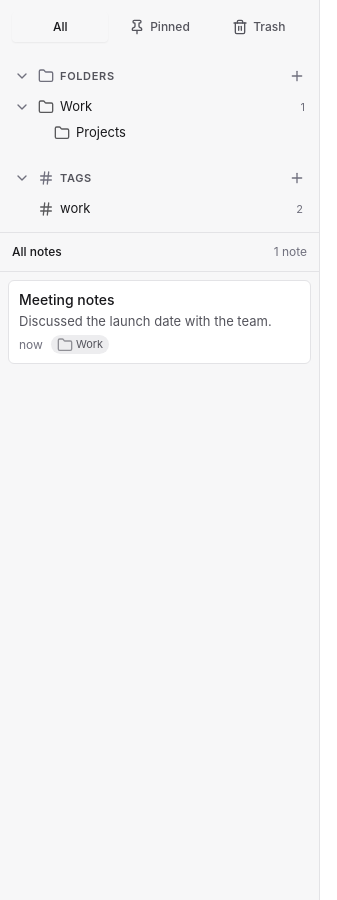
Test: Sidebar › offers an add control for tags that opens an inline input
Expected: the button named "New folder" is shown, [287,66,307,86]
Click the button named "New tag" at (297, 178), box [287,168,307,188]
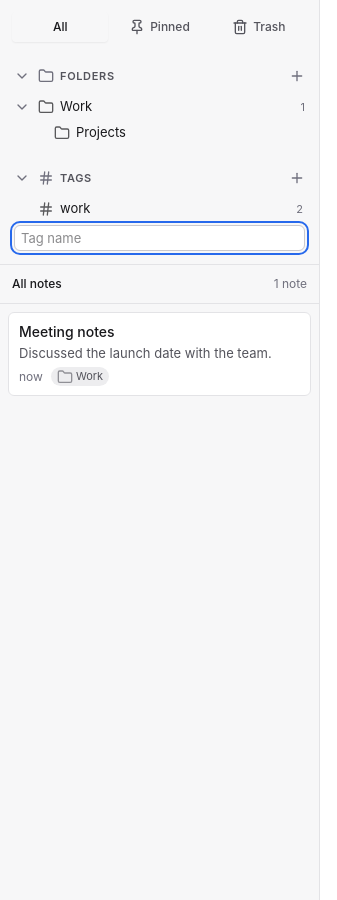
Expected: the field with test id "tag-name-input" is shown, [14,225,305,251]
